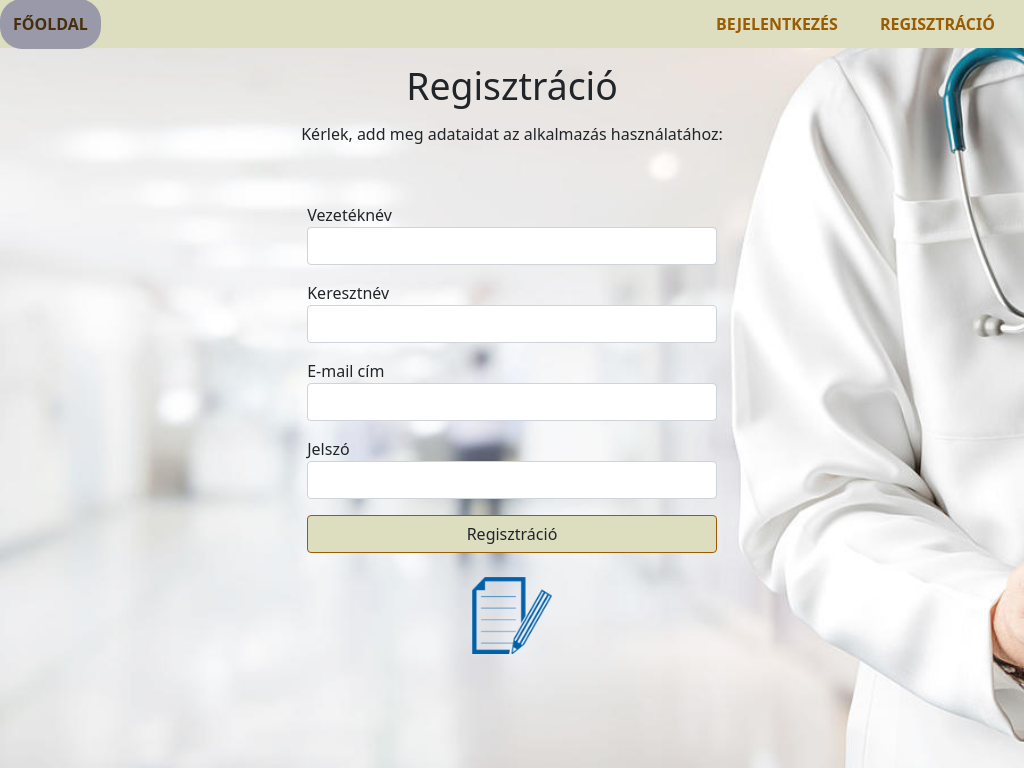
Test: Check Registration page validations › Check invalid input values › Check password validations › Check password value minimum length
Type "asdfghj" into the password field labelled "Jelszó" at (512, 480), box [307, 461, 717, 499]
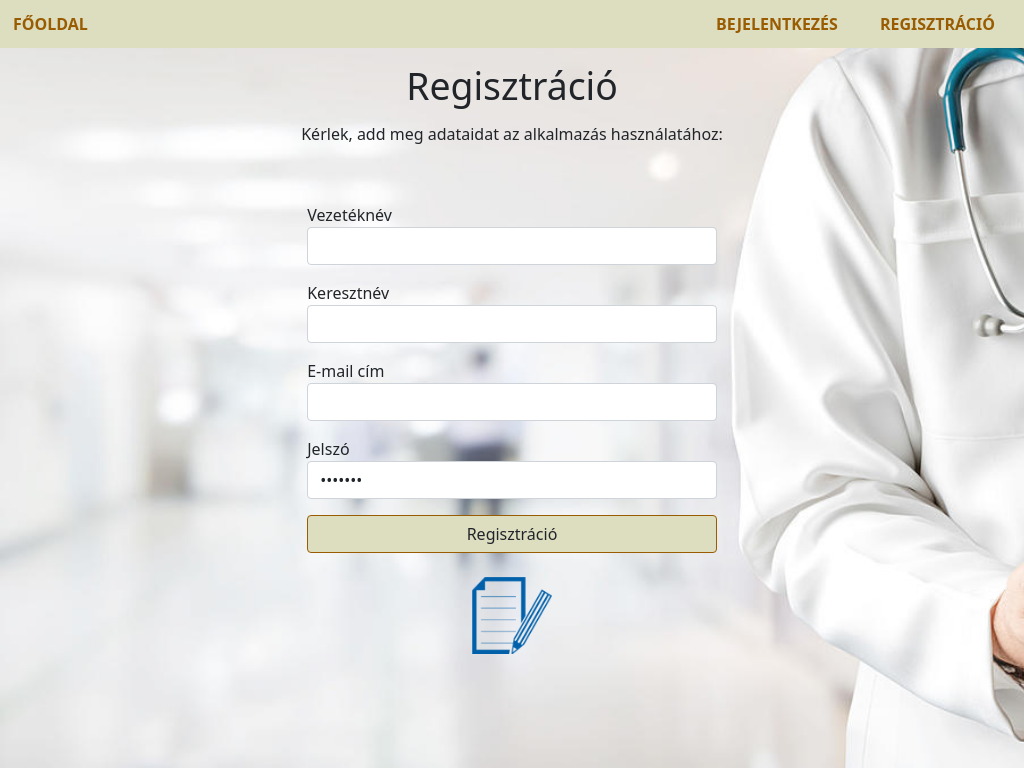
Leave the password field labelled "Jelszó", box [307, 461, 717, 499]
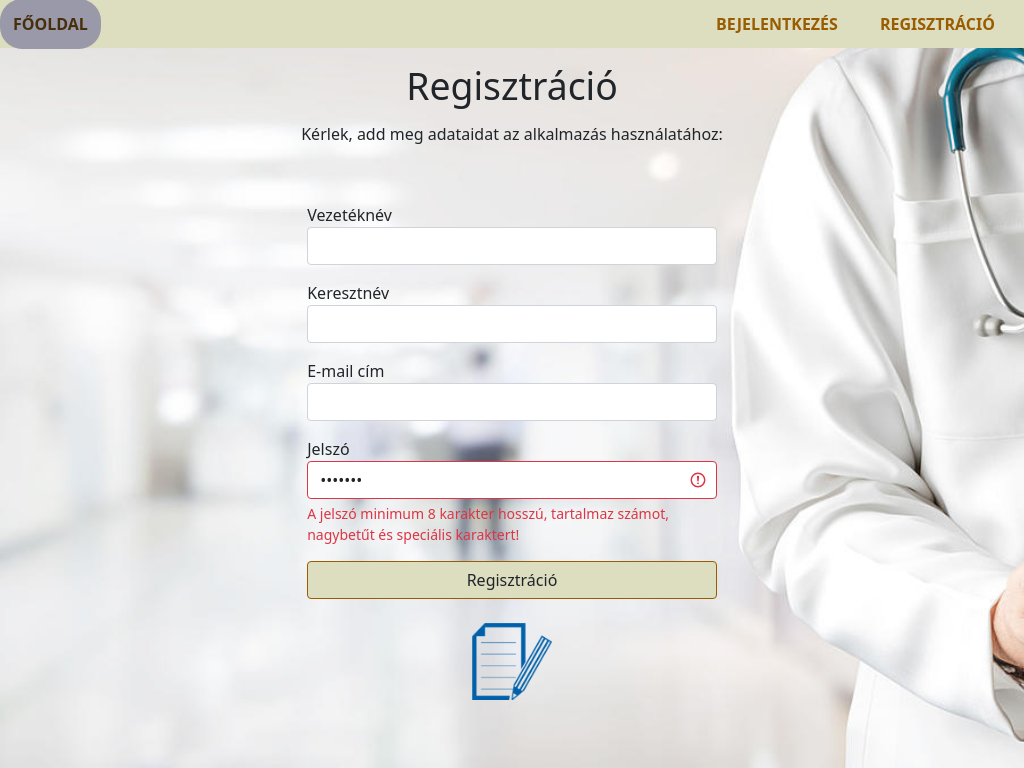
Result: the text "A jelszó minimum 8 karakter hosszú, tartalmaz számot, nagybetűt és speciális karaktert!" is shown at [307, 504, 669, 544]
